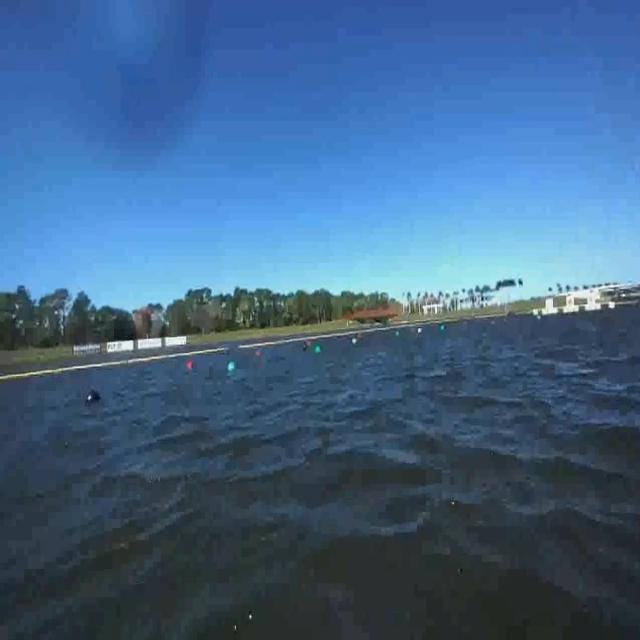black-buoy: (86, 389, 102, 407)
green-buoy: (226, 361, 241, 378), (315, 345, 321, 355)
red-buoy: (186, 359, 193, 369)
